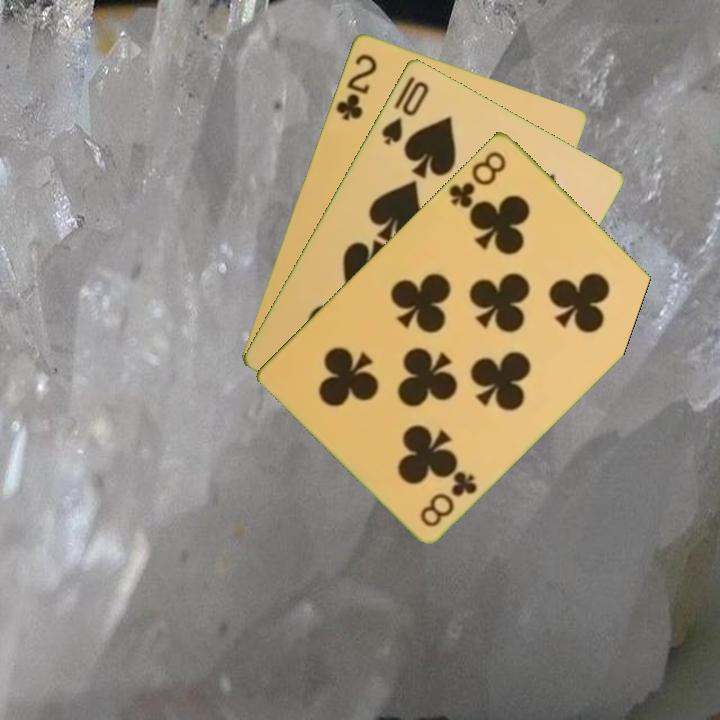10s: (377, 76, 432, 148)
2c: (331, 49, 380, 123)
8c: (445, 146, 509, 211), (416, 466, 480, 529)
